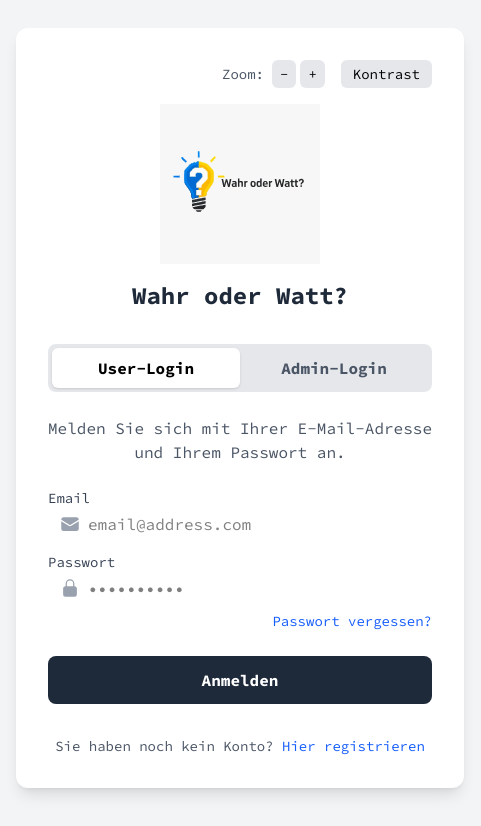
Test: LoginView.vue › Registration › switches to login on successful registration
Click the button "Hier registrieren" at (353, 746), box [282,736,425,756]
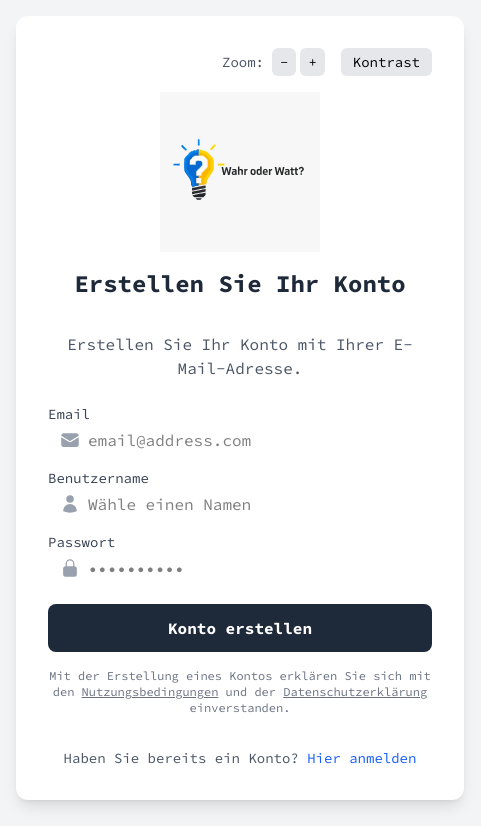
Type "new@user.com" into the field with id "reg-email" at (240, 440), box [48,428,432,452]
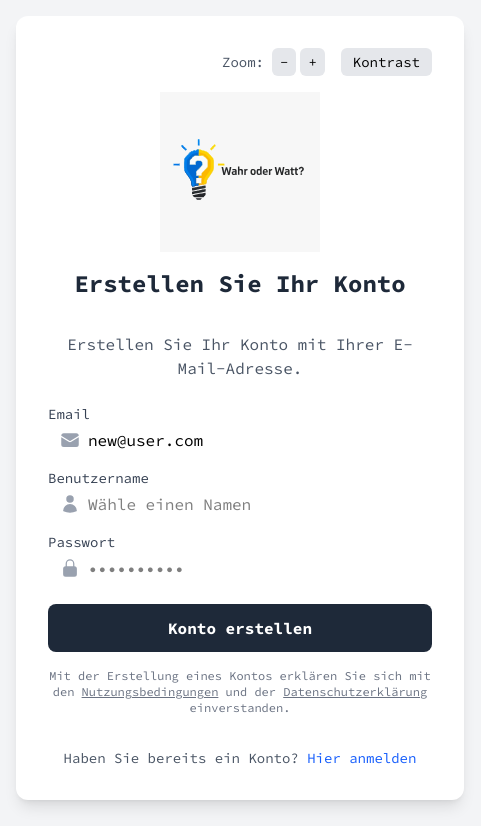
Type "newuser" into the field with id "reg-username" at (240, 504), box [48,492,432,516]
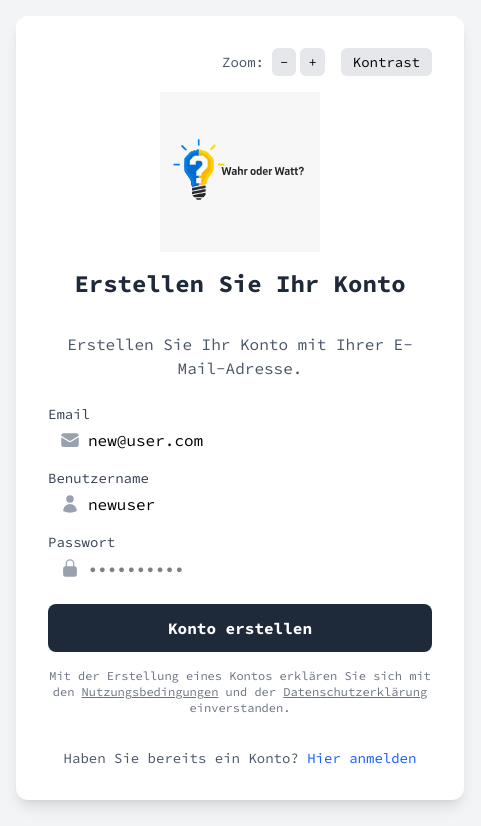
Type "password123" into the password field with id "reg-password" at (240, 568), box [48,556,432,580]
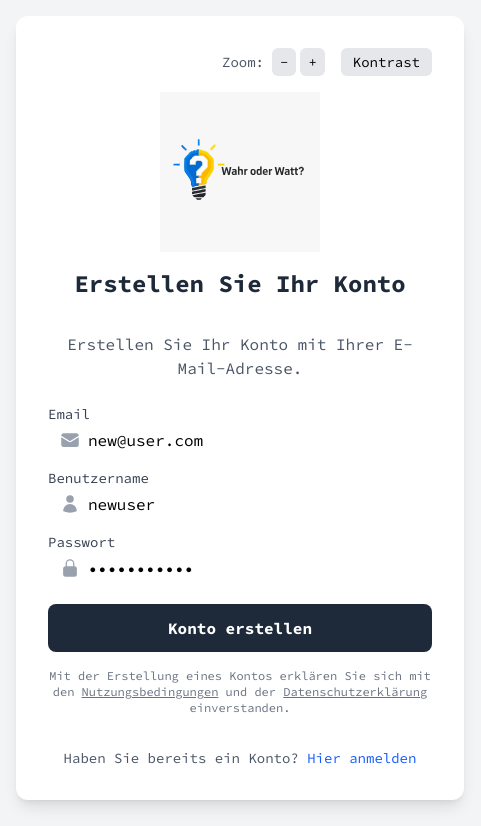
Submit the form, box [48,332,432,768]
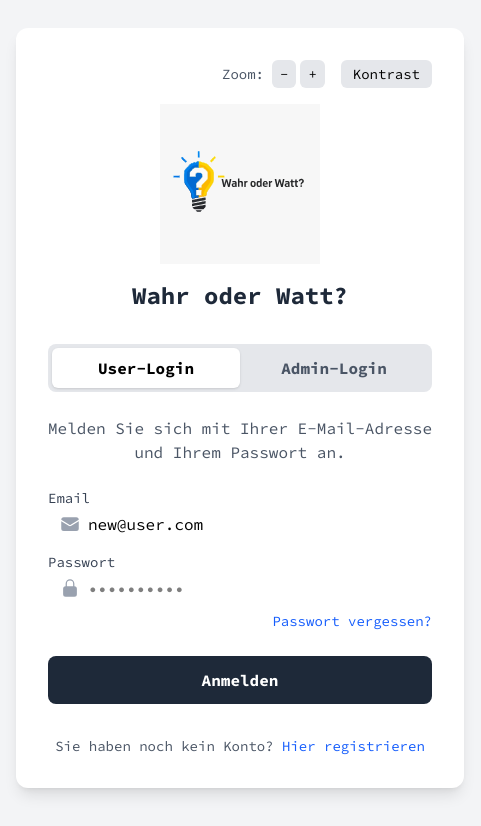
Now the heading "Wahr oder Watt?" is shown, box [132,280,348,311]
